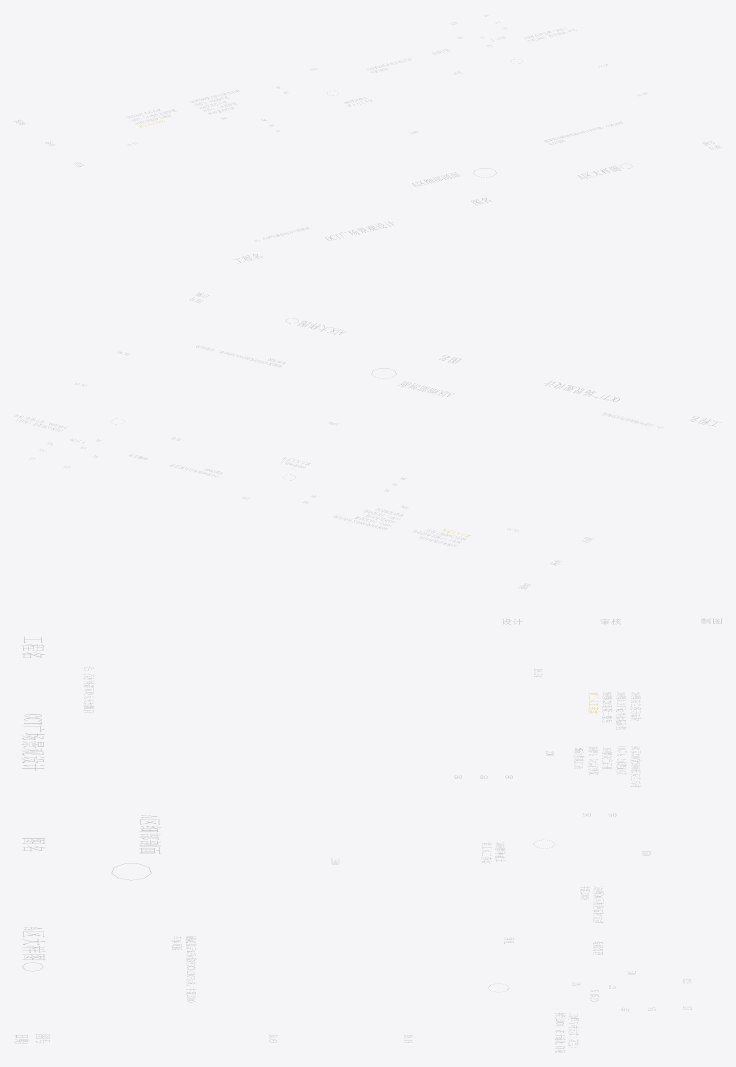
3 renders of one model, top to bottom at view 1: azimuth 30°, elevation 25°; view 2: azimuth 150°, elevation 25°; view 3: azimuth 270°, elevation 25°, orthographic. The views are drawn at different scales.
Bounding box in the file's own units: 3640 × 2504 × 0.
